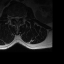CCS_normal: (16, 15, 18, 23)
LFS_stenosis: (20, 14, 22, 20)
LLS_stenosis: (18, 15, 20, 21)
RFS_normal: (12, 15, 14, 20)
RLS_normal: (14, 14, 16, 20)
